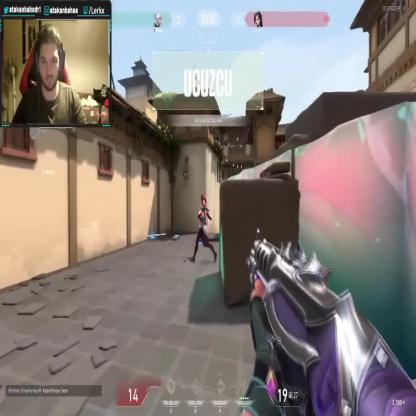enemy: (188, 193, 218, 262)
enemy_head: (200, 194, 207, 207)
